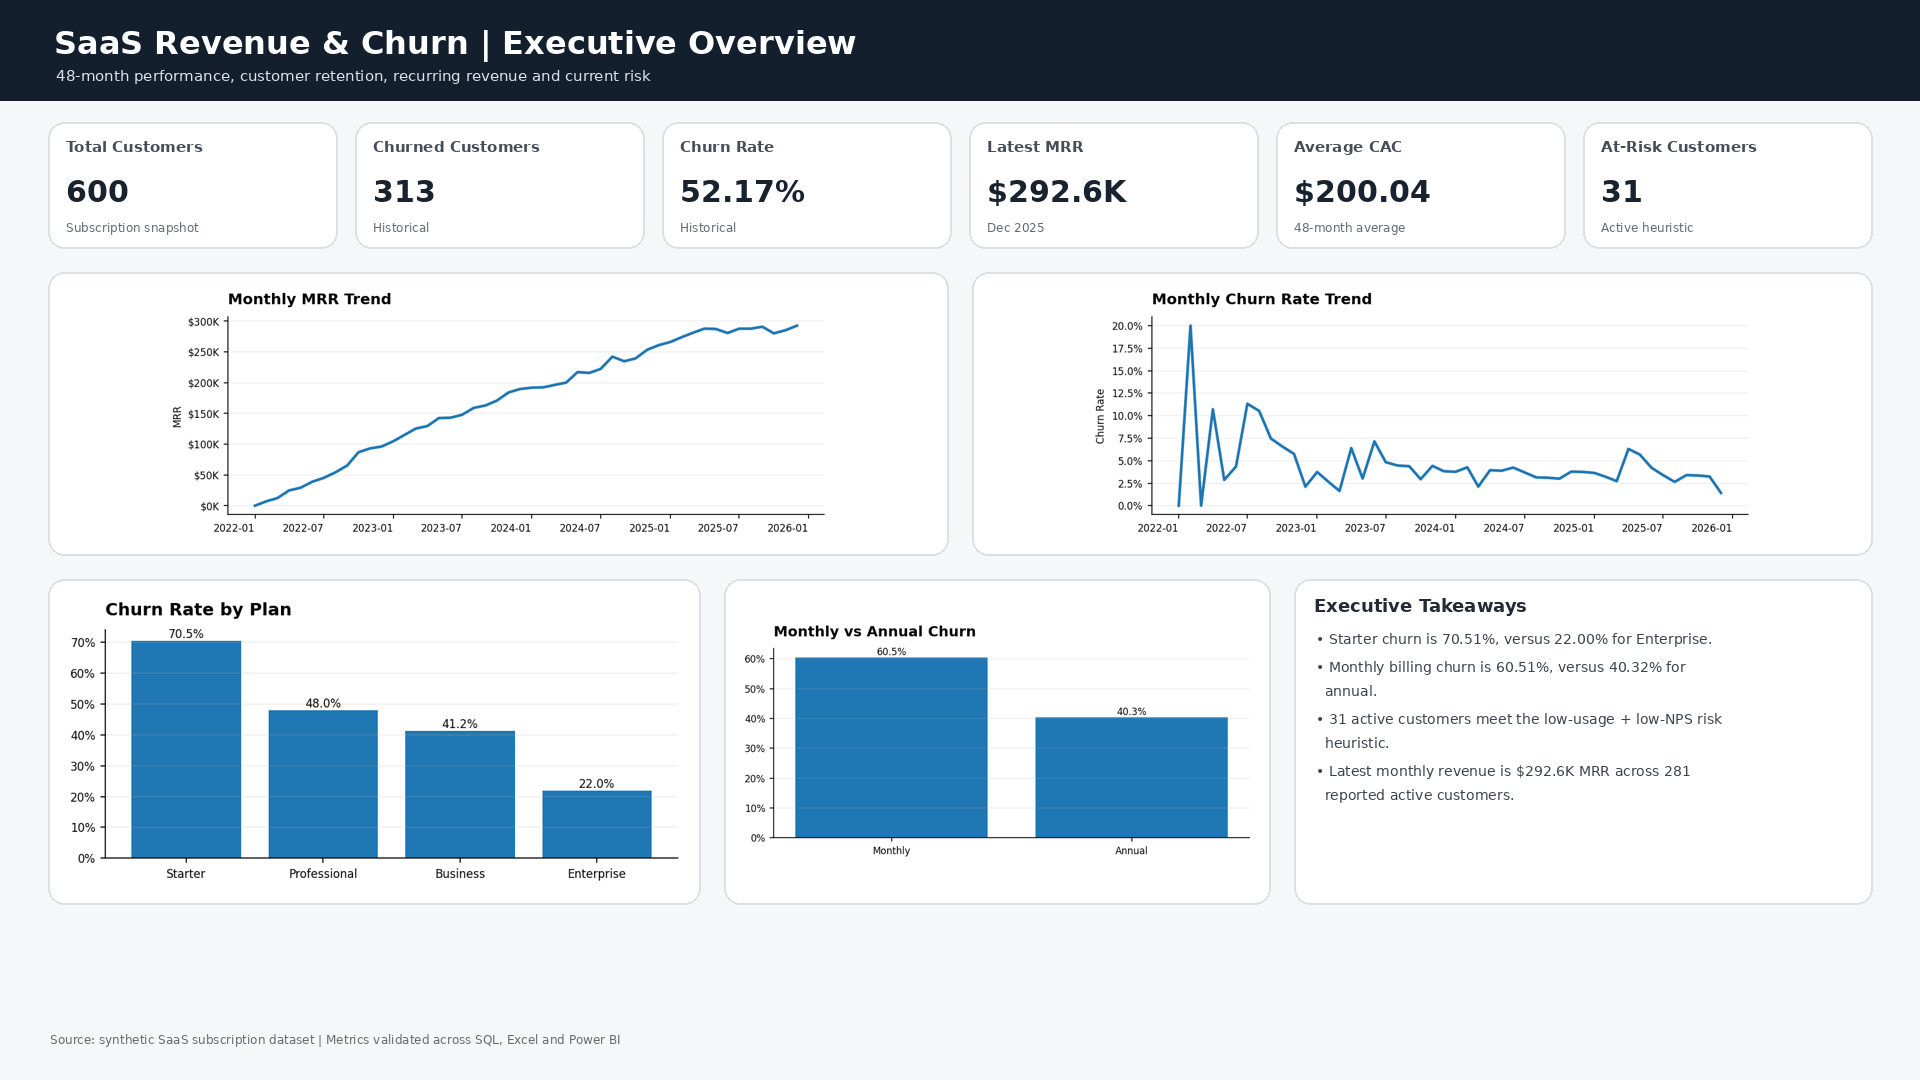

Layout of this report page (visuals, bound fields, positions):
{"tool":"powerbi","page":{"name":"Executive Overview","canvas":[1920,1080],"ordinal":0},"visuals":[{"type":"cardVisual","title":"Total Customers","fields":{"Data":["subscriptions.Total Customers"]},"box":[16,96,240,176],"z":0},{"type":"cardVisual","title":"Churned Customers","fields":{"Data":["subscriptions.Churned Customers"]},"box":[272,96,240,176],"z":1000},{"type":"cardVisual","title":"Churn Rate","fields":{"Data":["subscriptions.Churn Rate"]},"box":[512,96,240,176],"z":2000},{"type":"cardVisual","title":"Average CAC","fields":{"Data":["monthly_revenue.Average CAC"]},"box":[752,96,320,176],"z":3000},{"type":"cardVisual","title":"Latest MRR","fields":{"Data":["monthly_revenue.Latest MRR"]},"box":[1312,96,320,176],"z":4000},{"type":"cardVisual","title":"At-Risk Customers","fields":{"Data":["subscriptions.At-Risk Customers"]},"box":[1072,96,240,176],"z":5000},{"type":"lineChart","title":"Monthly MRR Trend","fields":{"Category":["monthly_revenue.month"],"Y":["Sum(monthly_revenue.total_mrr)"]},"box":[16,290,610,220],"z":6000},{"type":"lineChart","title":"Monthly Churn Rate Trend","fields":{"Category":["monthly_revenue.month"],"Y":["Avg(monthly_revenue.monthly_churn_rate_pct)"]},"box":[642,290,610,220],"z":7000},{"type":"clusteredColumnChart","title":"Churn Rate by Plan","fields":{"Category":["subscriptions.plan"],"Y":["subscriptions.Churn Rate"]},"box":[16,525,400,220],"z":8000},{"type":"clusteredColumnChart","title":"Monthly vs Annual Churn","fields":{"Category":["subscriptions.billing_cycle"],"Y":["subscriptions.Churn Rate"]},"box":[432,525,400,220],"z":9000},{"type":"slicer","fields":{"Values":["subscriptions.plan"]},"box":[1280,290,300,145],"z":10000},{"type":"slicer","fields":{"Values":["subscriptions.billing_cycle"]},"box":[1280,445,300,145],"z":11000},{"type":"slicer","fields":{"Values":["subscriptions.company_size"]},"box":[1280,600,300,145],"z":12000},{"type":"textbox","box":[1590,287.5,330,90],"z":13000}]}

Visuals, with their boxes in screenshot pixels (x1, y1, x2, y2), scaled from the page's 1920x1080 canvas onto the 1920x1080 screenshot:
"Total Customers" cardVisual: left=16, top=96, right=256, bottom=272
"Churned Customers" cardVisual: left=272, top=96, right=512, bottom=272
"Churn Rate" cardVisual: left=512, top=96, right=752, bottom=272
"Average CAC" cardVisual: left=752, top=96, right=1072, bottom=272
"Latest MRR" cardVisual: left=1312, top=96, right=1632, bottom=272
"At-Risk Customers" cardVisual: left=1072, top=96, right=1312, bottom=272
"Monthly MRR Trend" lineChart: left=16, top=290, right=626, bottom=510
"Monthly Churn Rate Trend" lineChart: left=642, top=290, right=1252, bottom=510
"Churn Rate by Plan" clusteredColumnChart: left=16, top=525, right=416, bottom=745
"Monthly vs Annual Churn" clusteredColumnChart: left=432, top=525, right=832, bottom=745
slicer - subscriptions.plan: left=1280, top=290, right=1580, bottom=435
slicer - subscriptions.billing_cycle: left=1280, top=445, right=1580, bottom=590
slicer - subscriptions.company_size: left=1280, top=600, right=1580, bottom=745
textbox: left=1590, top=288, right=1919, bottom=378
